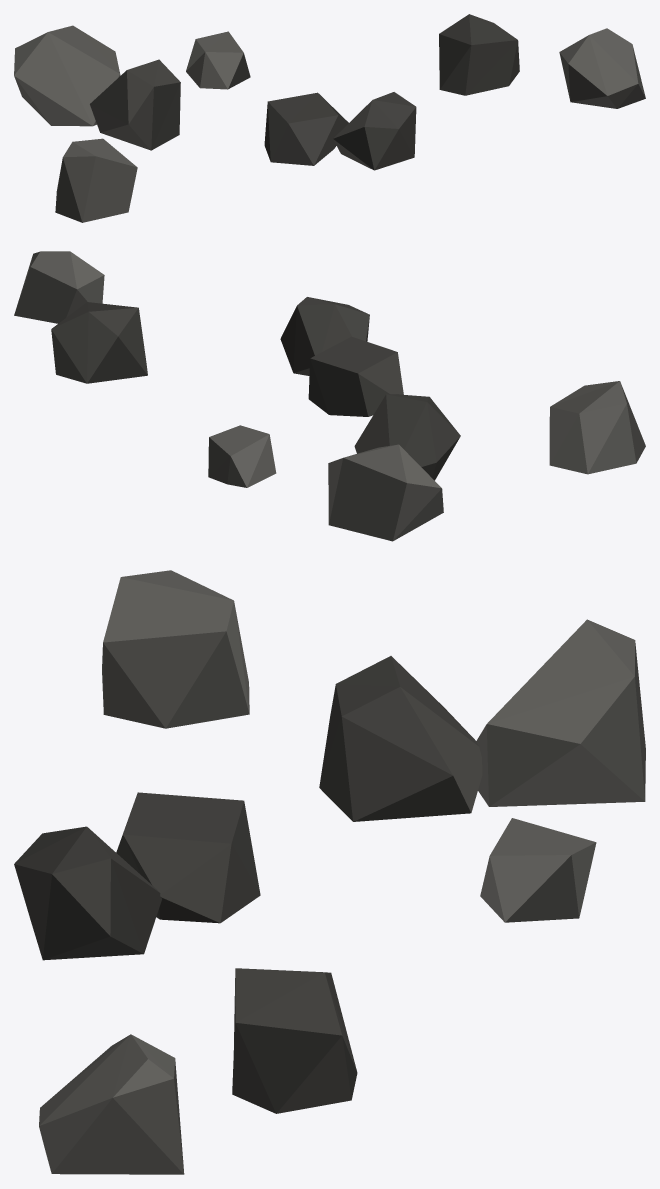
The model's file is SM_Env_Rock_Pebbles_04.fbx.
The picture shows the model from 3 angles, top to bottom: view 1: azimuth 30°, elevation 25°; view 2: azimuth 150°, elevation 25°; view 3: azimuth 270°, elevation 25°; orthographic projection. The views are drawn at different scales.
Parts seen in each view (by area): view 1: SM_Env_Rock_Pebbles_04; view 2: SM_Env_Rock_Pebbles_04; view 3: SM_Env_Rock_Pebbles_04.
Boxes of the visible parts, x1=… form: SM_Env_Rock_Pebbles_04: x1=14, y1=14, x2=645, y2=222; SM_Env_Rock_Pebbles_04: x1=14, y1=251, x2=645, y2=541; SM_Env_Rock_Pebbles_04: x1=14, y1=570, x2=645, y2=1174.
Size of the model in its own units: 90.57 by 11.67 by 46.99.
Materials: 1 (1 with a texture image).
